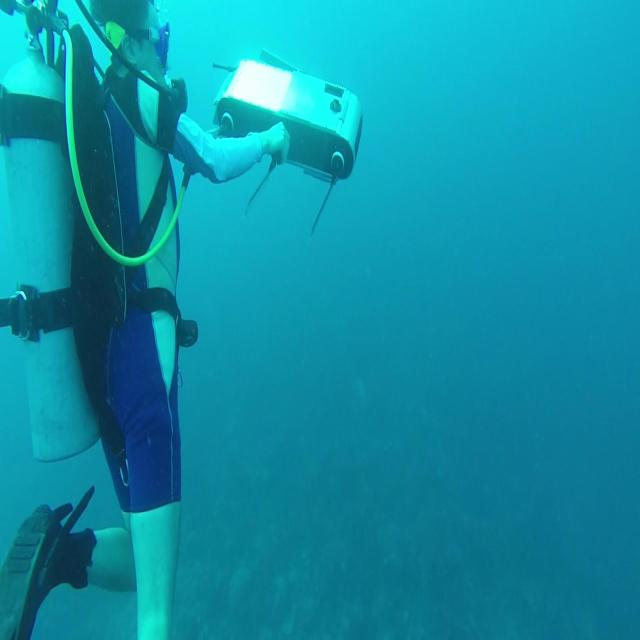human: (1, 1, 291, 638)
